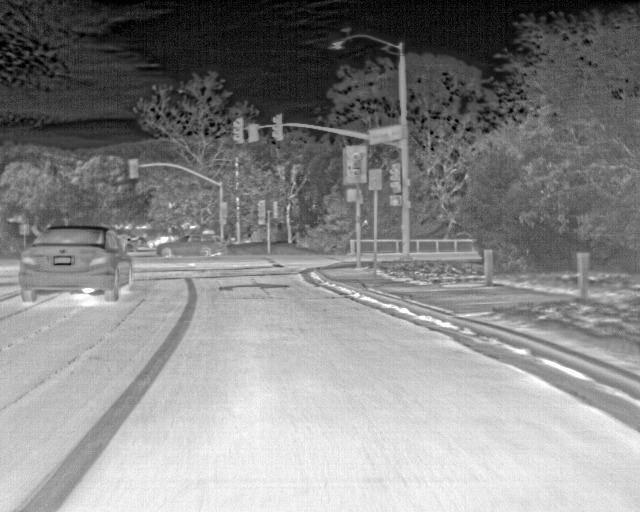car: (18, 226, 132, 302), (156, 233, 227, 258), (146, 235, 178, 248), (127, 235, 151, 248)
light: (350, 151, 363, 179), (389, 168, 399, 187), (233, 120, 241, 141), (257, 201, 264, 224), (272, 116, 279, 139), (347, 189, 360, 201), (129, 160, 138, 177), (390, 195, 402, 206), (221, 204, 227, 217), (273, 202, 277, 218), (220, 219, 226, 224)
sign: (369, 125, 402, 145), (369, 169, 381, 189), (248, 125, 258, 142), (20, 224, 29, 234)
